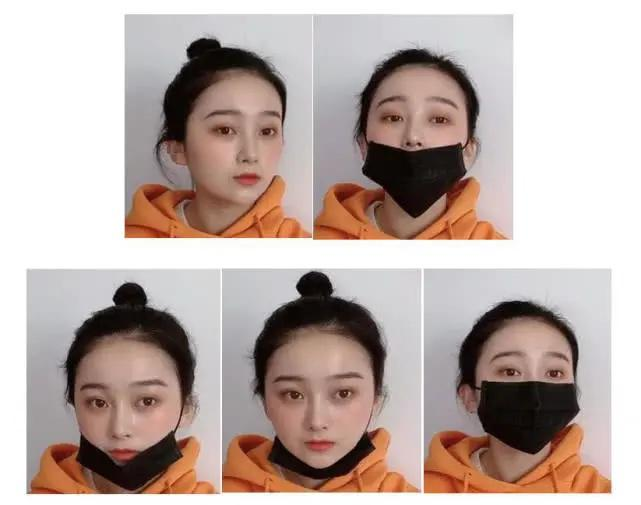NONE: (191, 93, 280, 204)
OK: (481, 339, 574, 455)
WRONG: (270, 349, 374, 474), (78, 363, 184, 484), (367, 85, 467, 207)
